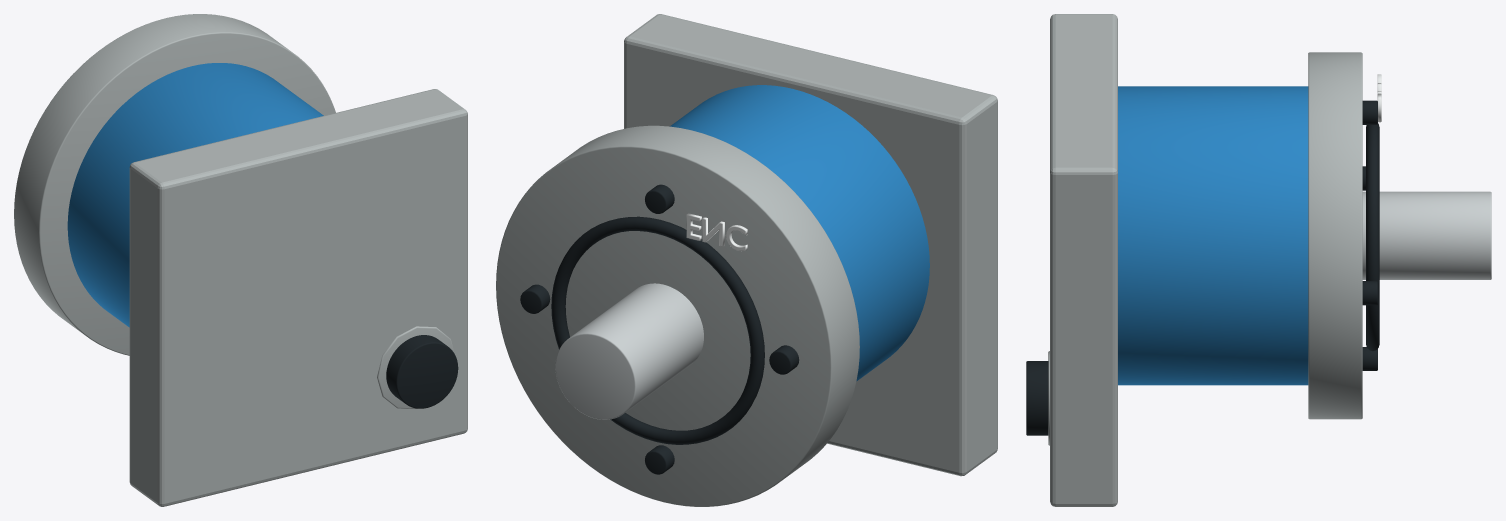
Rendered from incremental_rotary_encoder.glb.
3 renders of one model, left to right at view 1: azimuth 30°, elevation 25°; view 2: azimuth 150°, elevation 25°; view 3: azimuth 270°, elevation 25°, orthographic. The views are drawn at different scales.
Visible parts, largest first — view 1: ENCODER_mount, ENCODER_flange, ENCODER_housing, M12_body, M12_nut; view 2: ENCODER_flange, ENCODER_mount, ENCODER_housing, ENCODER_shaft, ENCODER_scale_ring, ENCODER_label, FLANGE_bolt_90, FLANGE_bolt_180, FLANGE_bolt_0, FLANGE_bolt_270; view 3: ENCODER_housing, ENCODER_mount, ENCODER_flange, ENCODER_shaft, ENCODER_scale_ring, M12_body.
Part boxes in pixels (x1,y1,x2,y2): ENCODER_mount: (129,89,467,506); ENCODER_flange: (14,14,335,355); ENCODER_housing: (67,63,323,327); M12_body: (386,335,458,408); M12_nut: (377,326,454,408); ENCODER_flange: (496,125,859,506); ENCODER_mount: (624,14,997,476); ENCODER_housing: (670,85,929,381); ENCODER_shaft: (555,283,703,419); ENCODER_scale_ring: (551,216,764,444); ENCODER_label: (686,213,747,251); FLANGE_bolt_90: (645,184,674,213); FLANGE_bolt_180: (769,345,799,374); FLANGE_bolt_0: (520,284,550,313); FLANGE_bolt_270: (645,445,674,474); ENCODER_housing: (1118,86,1308,385); ENCODER_mount: (1050,14,1117,506); ENCODER_flange: (1308,52,1362,419); ENCODER_shaft: (1362,191,1491,279); ENCODER_scale_ring: (1366,123,1379,351); M12_body: (1026,361,1048,435).
Size of the model in its own units: 0.55 by 0.585 by 0.685.
